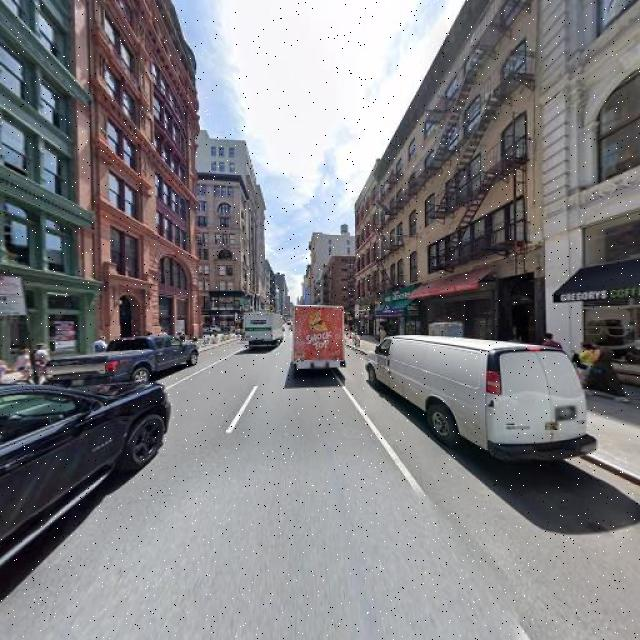Building: (422, 1, 534, 365), (539, 1, 640, 385), (95, 1, 195, 359), (1, 1, 90, 379), (380, 94, 419, 343)
